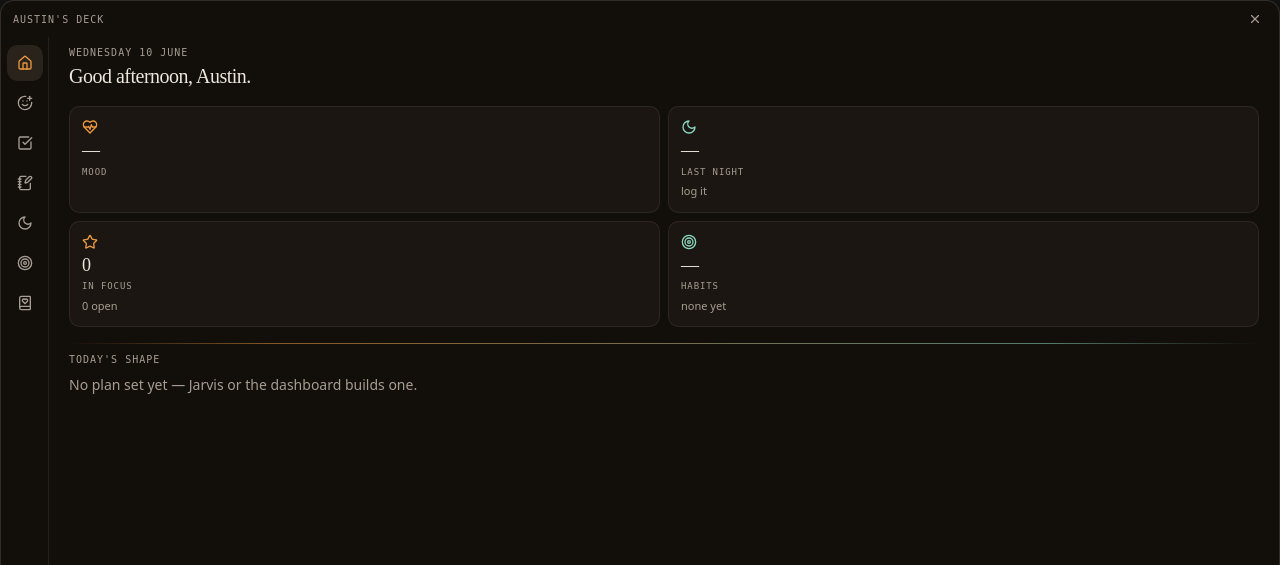
Deck › renders the Mood section when Mood is selected
Click the button named "Mood". click: (24, 103)
box: [6,85,42,121]
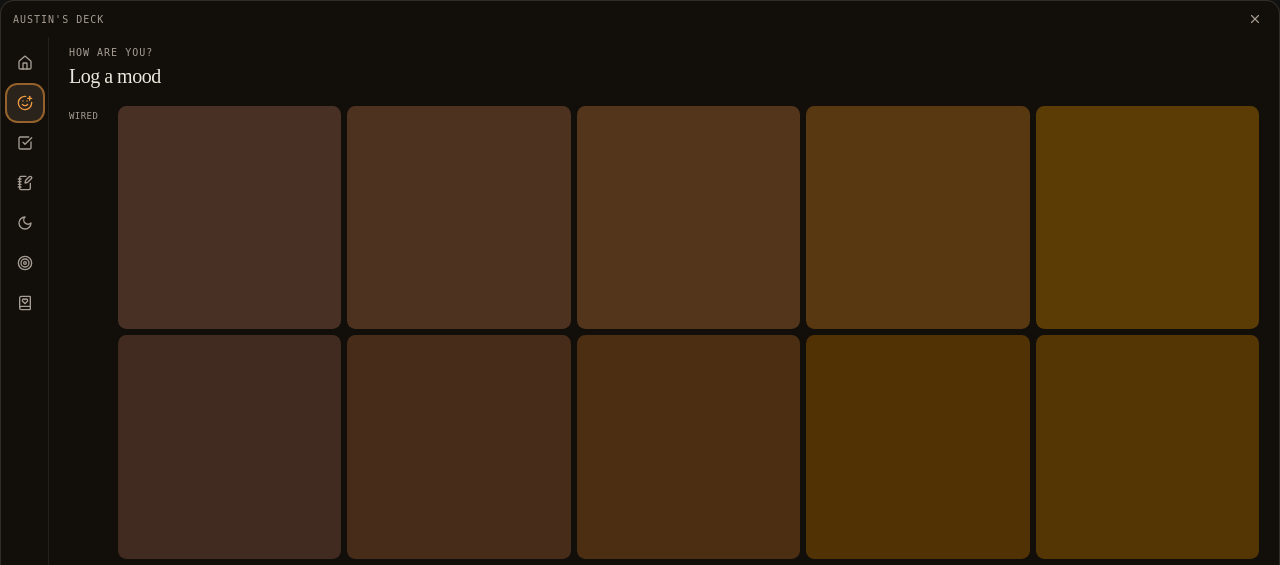
Expected: the heading "Log a mood" is shown, [69,65,161,87]
